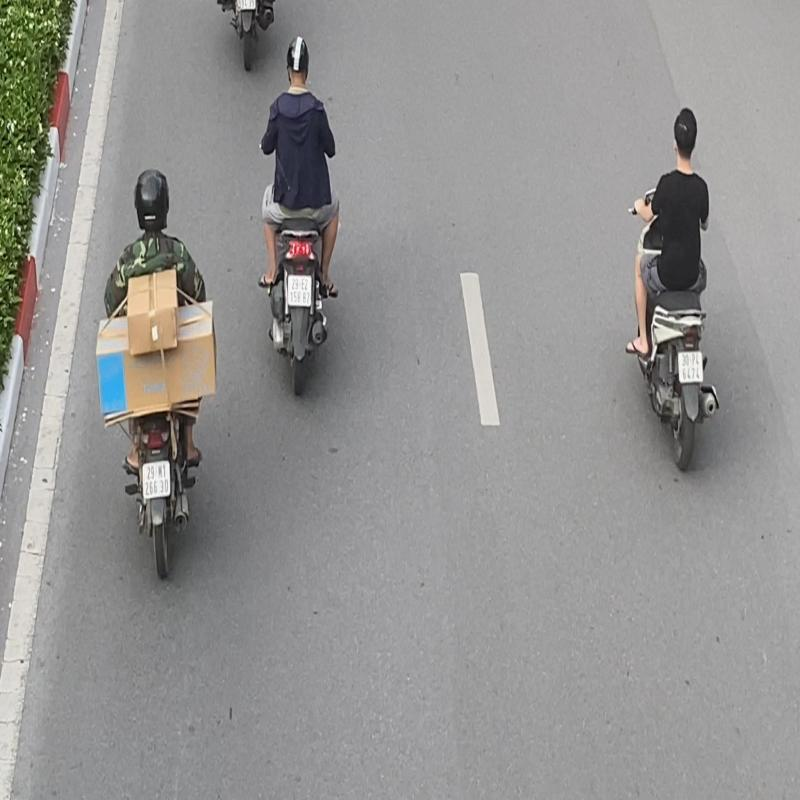helmet: (134, 170, 168, 229), (287, 36, 311, 82)
licenseplate: (142, 460, 170, 500), (286, 272, 312, 307), (678, 351, 702, 384)
motorcyclist: (89, 165, 219, 579), (621, 99, 731, 476), (257, 31, 341, 398)
nohelmet: (672, 106, 698, 162)
